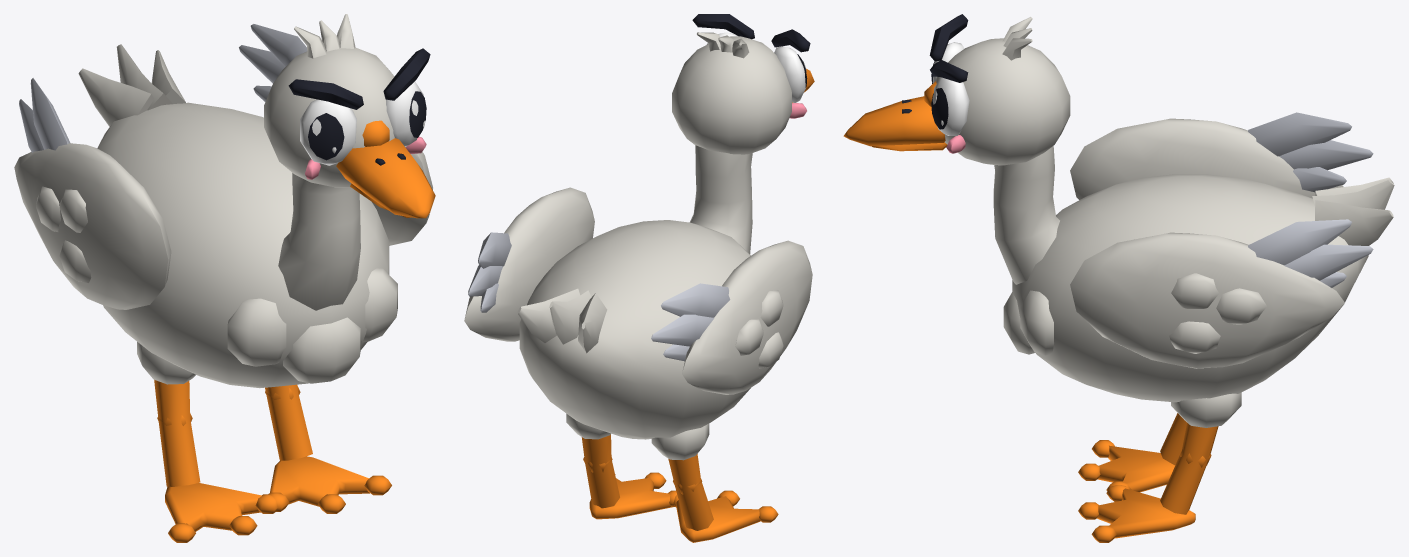
The model's file is goose.glb.
3 renders of one model, left to right at view 1: azimuth 30°, elevation 25°; view 2: azimuth 150°, elevation 25°; view 3: azimuth 270°, elevation 25°, orthographic. The views are drawn at different scales.
Visible parts, largest first — view 1: body, neck, wing_r, leg_r, leg_l, wing_l; view 2: body, neck, wing_r, wing_l, leg_r, leg_l; view 3: body, wing_l, neck, wing_r, leg_l, leg_r.
Part boxes in pixels (x1=…): body: x1=78, y1=44, x2=397, y2=388; neck: x1=264, y1=14, x2=435, y2=310; wing_r: x1=14, y1=78, x2=171, y2=309; leg_r: x1=137, y1=342, x2=289, y2=542; leg_l: x1=255, y1=384, x2=391, y2=513; wing_l: x1=239, y1=24, x2=432, y2=245; body: x1=517, y1=220, x2=750, y2=439; neck: x1=672, y1=14, x2=814, y2=253; wing_r: x1=651, y1=240, x2=812, y2=394; wing_l: x1=464, y1=187, x2=594, y2=341; leg_r: x1=651, y1=423, x2=778, y2=542; leg_l: x1=566, y1=413, x2=678, y2=519; body: x1=1003, y1=174, x2=1394, y2=402; wing_l: x1=1070, y1=219, x2=1373, y2=368; neck: x1=843, y1=14, x2=1070, y2=284; wing_r: x1=1070, y1=112, x2=1373, y2=199; leg_l: x1=1078, y1=392, x2=1241, y2=542; leg_r: x1=1078, y1=413, x2=1186, y2=501.
Size of the model in its own units: 0.6281 by 0.9826 by 1.04.
